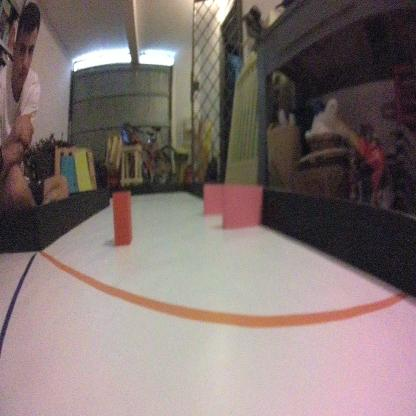magenta: (219, 182, 261, 234), (204, 183, 229, 215)
red: (111, 186, 133, 246)
